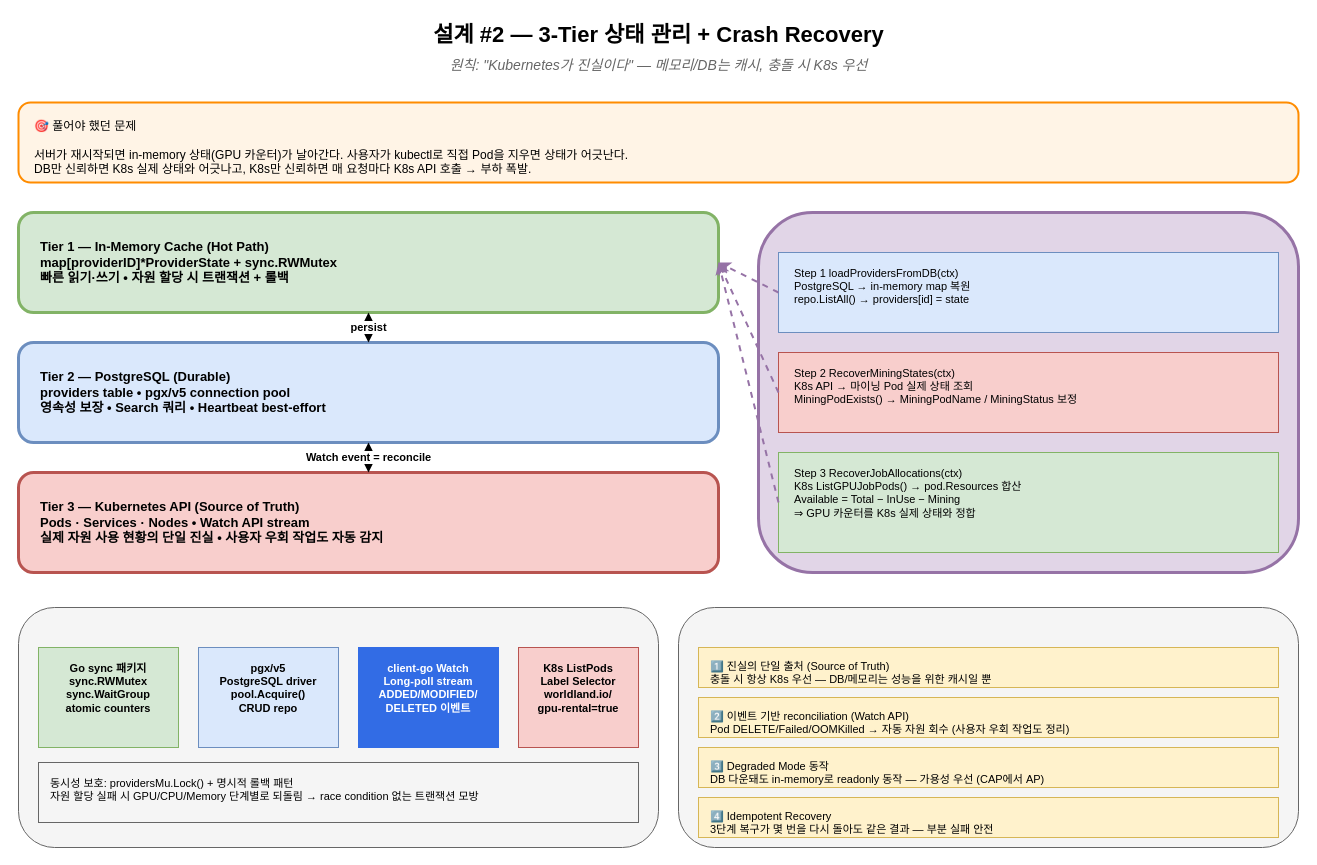
Image size: 1317x865. Some labels were removed from this diagram. Each missing label, with the box of its shape:
📐 설계 방식: (678, 606, 1298, 848)
🔄 Crash Recovery — Orchestrator.Start() 시 3단계: (756, 210, 1300, 574)
🛠️ 사용한 도구: (18, 606, 658, 848)
